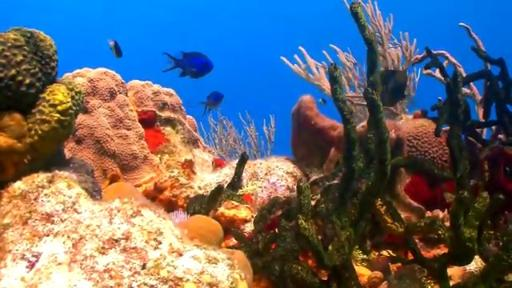Fish: (163, 52, 213, 79), (380, 70, 407, 107), (200, 91, 223, 116), (108, 40, 123, 58), (318, 97, 326, 105)
